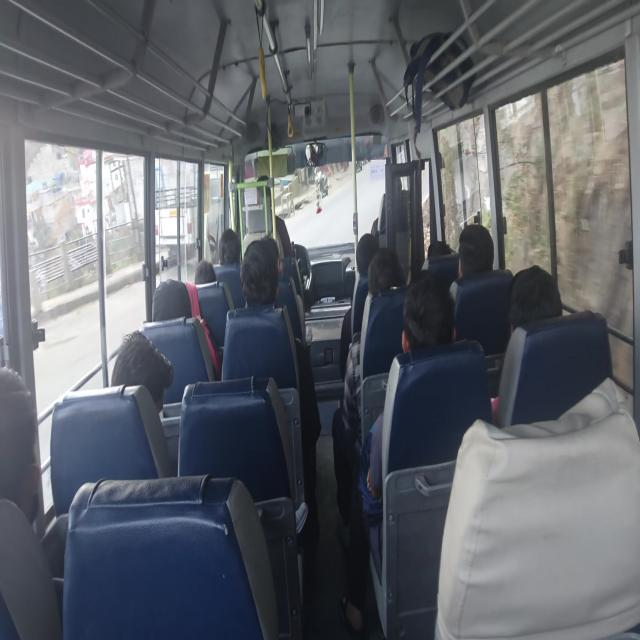person: (1, 364, 47, 514), (400, 270, 459, 368), (101, 338, 172, 417), (503, 261, 569, 329), (239, 237, 279, 309), (455, 218, 497, 284), (150, 273, 193, 329), (368, 244, 404, 300), (249, 166, 279, 210), (356, 228, 381, 276), (260, 224, 284, 273), (381, 165, 411, 201), (216, 224, 242, 265), (425, 232, 450, 268), (193, 256, 218, 289)
